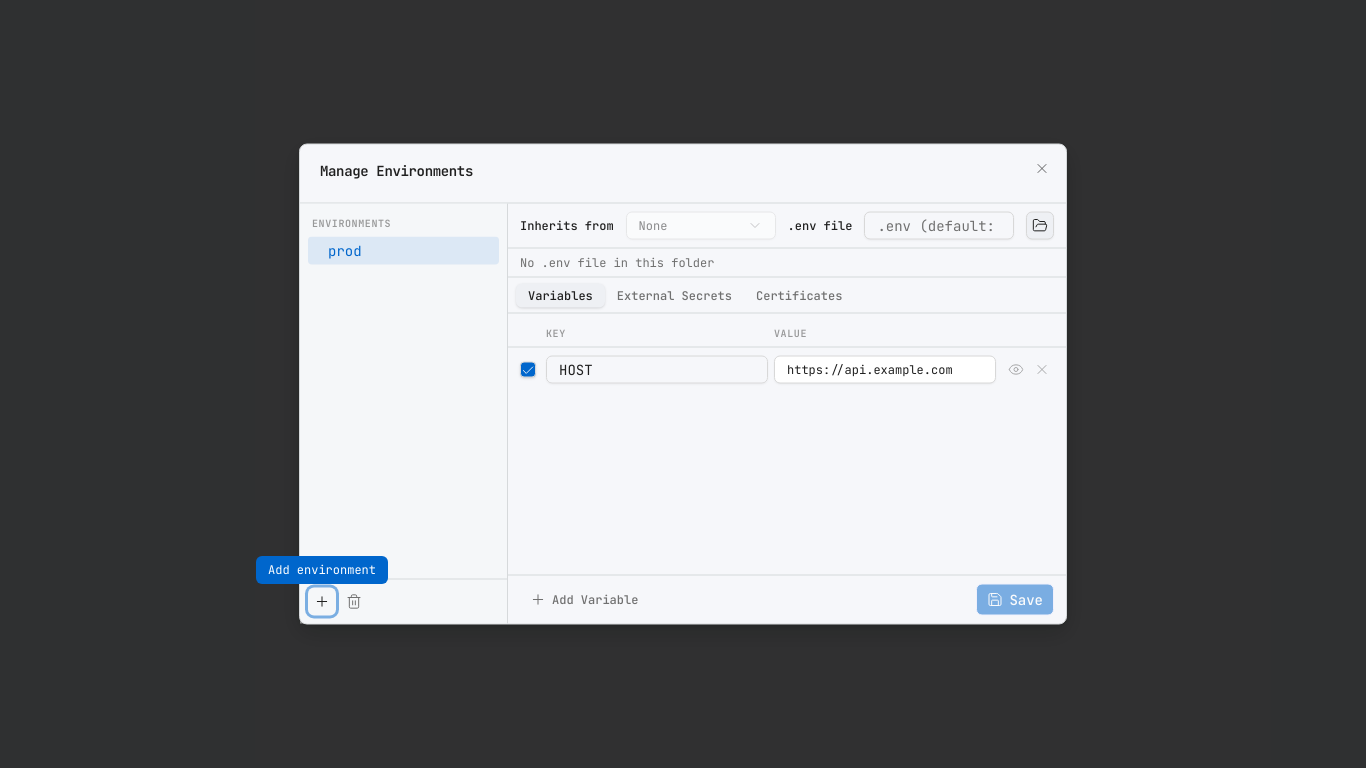
Test: EnvironmentDialog tab switcher › switches to External Secrets and hides the variable table
Expected: the field named "Variable key 1" is shown, [546,356,768,384]
Click the tab "External Secrets" at (674, 295), box [605,283,744,307]
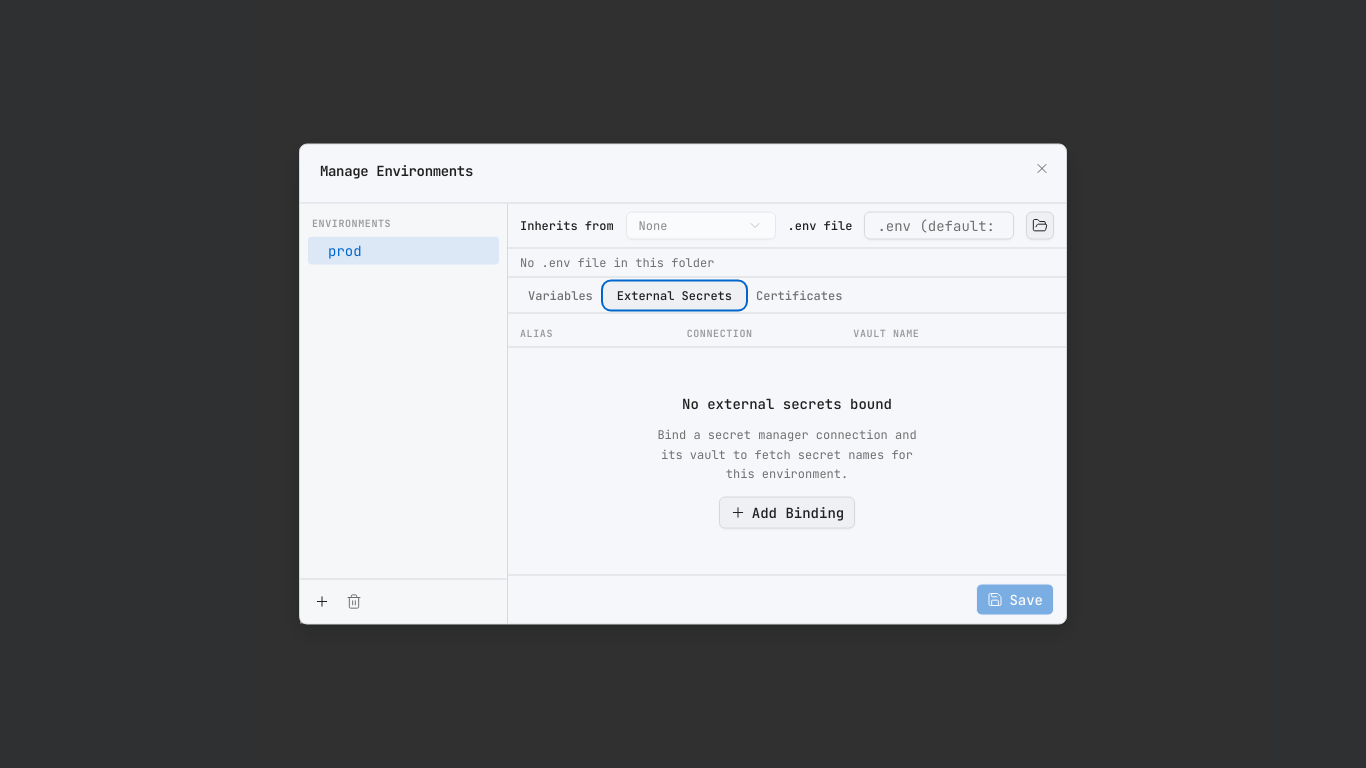
Now the button "Add Binding" is shown, box [719,496,855,528]
